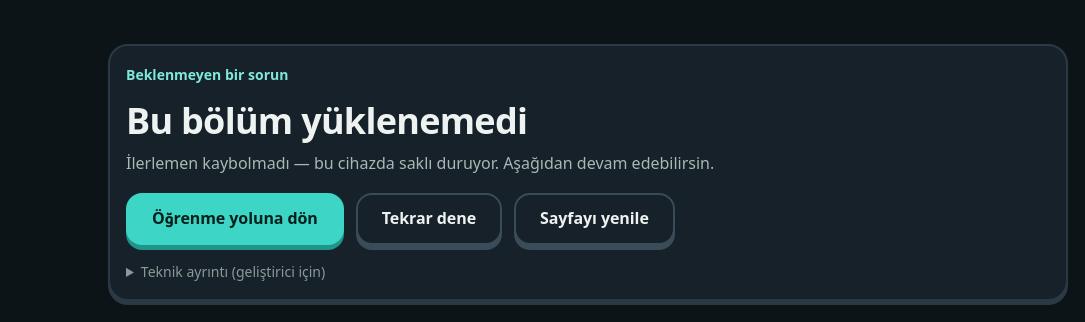
Test: HataSiniri › "Tekrar dene" hatayı temizler ve çocukları yeniden dener
Click the button "Tekrar dene". click: (429, 219)
box: [356, 193, 502, 245]
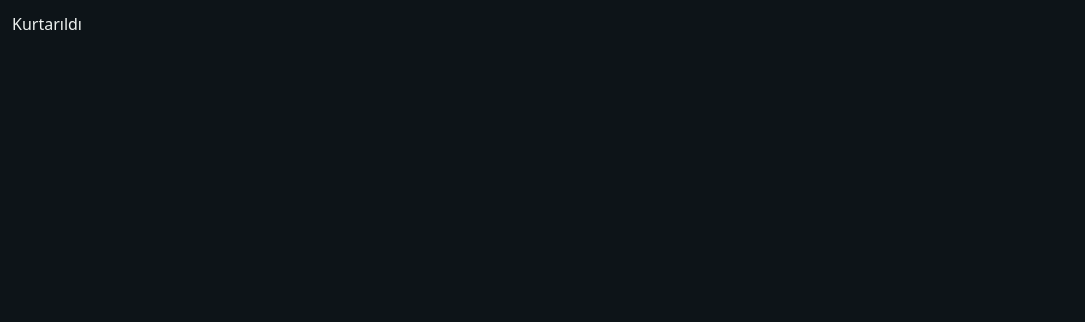
Result: the message is gone
